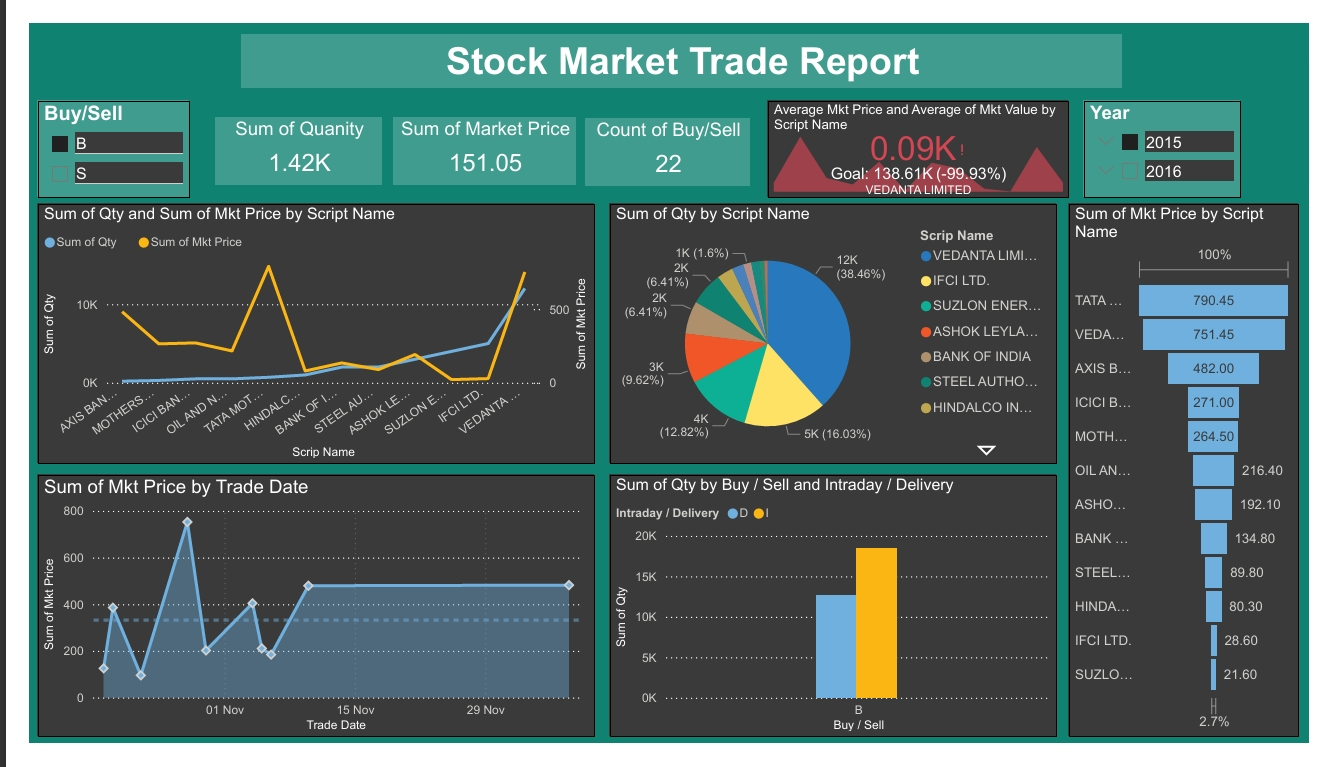

Layout of this report page (visuals, bound fields, positions):
{"tool":"powerbi","page":{"name":"Dashboard","canvas":[1280,720],"ordinal":0},"visuals":[{"type":"lineChart","fields":{"Y":["Sum(Input Sheet.Mkt Price    )"],"Category":["Input Sheet.Trade Date   "]},"box":[8.4,451.2,556.2,261.8],"z":0},{"type":"pieChart","title":"Sum of Qty by Script Name    ","fields":{"Category":["Input Sheet.Scrip Name    "],"Y":["Sum(Input Sheet.Qty     )"]},"box":[580.3,179.8,446.4,260.6],"z":1000},{"type":"lineChart","title":"Sum of Qty and Sum of Mkt Price by Script Name    ","fields":{"Category":["Input Sheet.Scrip Name    "],"Y":["Sum(Input Sheet.Qty     )"],"Y2":["Sum(Input Sheet.Mkt Price    )"]},"box":[8.4,179.8,556.2,260.6],"z":2000},{"type":"clusteredColumnChart","fields":{"Category":["Input Sheet.Buy / Sell   "],"Y":["Sum(Input Sheet.Qty     )"],"Series":["Input Sheet.Intraday / Delivery"]},"box":[580.3,451.2,446.4,261.8],"z":3000},{"type":"textbox","box":[212.3,10.9,880.7,54.3],"z":4000},{"type":"card","title":"Sum of Quanity","fields":{"Values":["Avg(Input Sheet.Qty     )"]},"box":[185.8,94.1,167.7,67.6],"z":5000},{"type":"slicer","title":"Buy/Sell","fields":{"Values":["Input Sheet.Buy / Sell   "]},"box":[8.4,77.2,152,96.5],"z":6000},{"type":"card","title":"Sum of Market Price","fields":{"Values":["Avg(Input Sheet.Mkt Price    )"]},"box":[364.3,94.1,182.2,67.6],"z":7000},{"type":"kpi","title":"Average Mkt Price and Average of Mkt Value     by Script Name    ","fields":{"Goal":["Avg(Input Sheet.Mkt Value    )"],"TrendLine":["Input Sheet.Scrip Name    "],"Indicator":["Avg(Input Sheet.Mkt Price    )"]},"box":[738.3,77.2,300.4,96.5],"z":8000},{"type":"card","title":"Count of Buy/Sell","fields":{"Values":["CountNonNull(Input Sheet.Buy / Sell   )"]},"box":[556.2,95.3,165.3,67.6],"z":9000},{"type":"slicer","title":"Year","fields":{"Values":["Input Sheet.Trade Date   .Variation.Date Hierarchy.Year","Input Sheet.Trade Date   .Variation.Date Hierarchy.Quarter","Input Sheet.Trade Date   .Variation.Date Hierarchy.Month","Input Sheet.Trade Date   .Variation.Date Hierarchy.Day"]},"box":[1054.4,77.2,156.8,96.5],"z":10000},{"type":"funnel","title":"Sum of Mkt Price     by Script Name    ","fields":{"Y":["Sum(Input Sheet.Mkt Price    )"],"Category":["Input Sheet.Scrip Name    "]},"box":[1038.7,179.8,230.4,533.2],"z":11000}]}

Visuals, with their boxes in screenshot pixels (x1, y1, x2, y2), scaled from the page's 1280x720 canvas onto the 1331x767 screenshot:
lineChart - Sum(Input Sheet.Mkt Price    ) x Input Sheet.Trade Date   : locate(9, 481, 587, 760)
"Sum of Qty by Script Name    " pieChart: locate(603, 192, 1068, 469)
"Sum of Qty and Sum of Mkt Price by Script Name    " lineChart: locate(9, 192, 587, 469)
clusteredColumnChart - Input Sheet.Buy / Sell    x Sum(Input Sheet.Qty     ): locate(603, 481, 1068, 760)
textbox: locate(221, 12, 1137, 69)
"Sum of Quanity" card: locate(193, 100, 368, 172)
"Buy/Sell" slicer: locate(9, 82, 167, 185)
"Sum of Market Price" card: locate(379, 100, 568, 172)
"Average Mkt Price and Average of Mkt Value     by Script Name    " kpi: locate(768, 82, 1080, 185)
"Count of Buy/Sell" card: locate(578, 102, 750, 174)
"Year" slicer: locate(1096, 82, 1259, 185)
"Sum of Mkt Price     by Script Name    " funnel: locate(1080, 192, 1320, 760)
